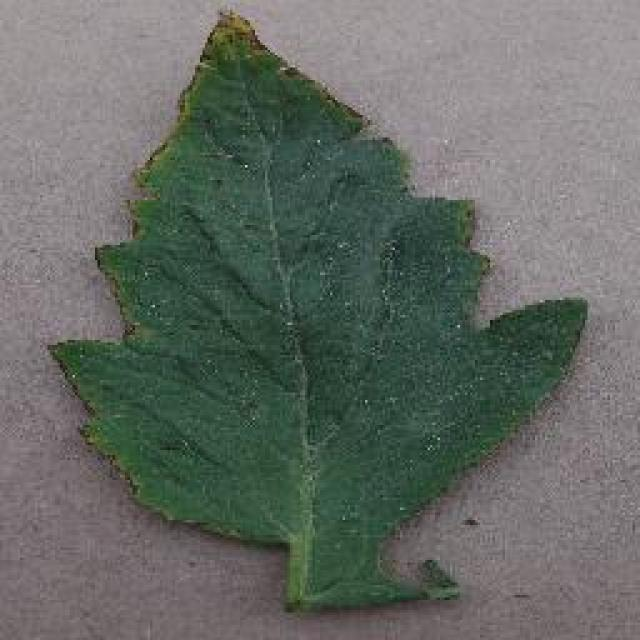Tomato bacterial spot leaf: (50, 4, 592, 608)
